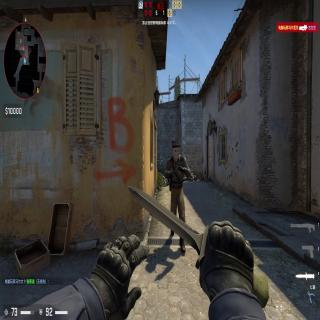T-Body: (168, 140, 190, 215)
T-Head: (171, 140, 180, 158)
